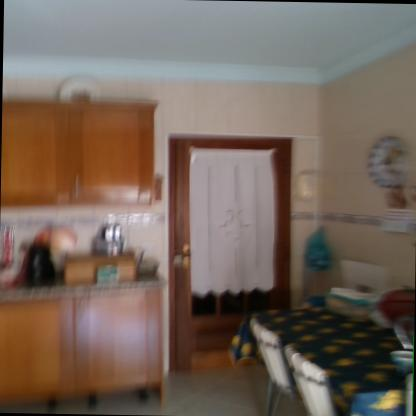closed: (156, 126, 300, 382)
